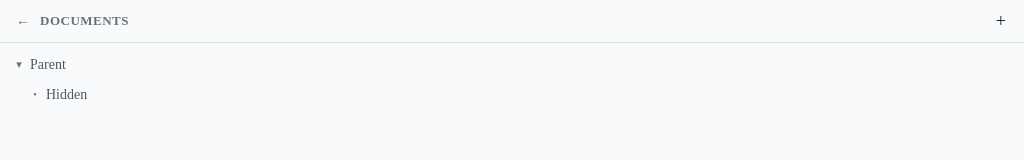
Scenario: PageTree › toggle button collapses children
Expected: the button "Hidden" is shown, [46,84,996,104]
Click the button named "Collapse Parent". click: coordinates (19, 64)
box: [12,58,26,70]
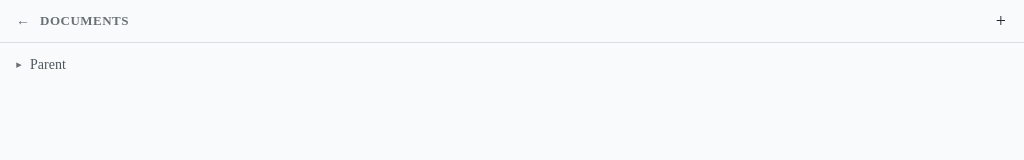
Result: the button "Hidden" is gone
